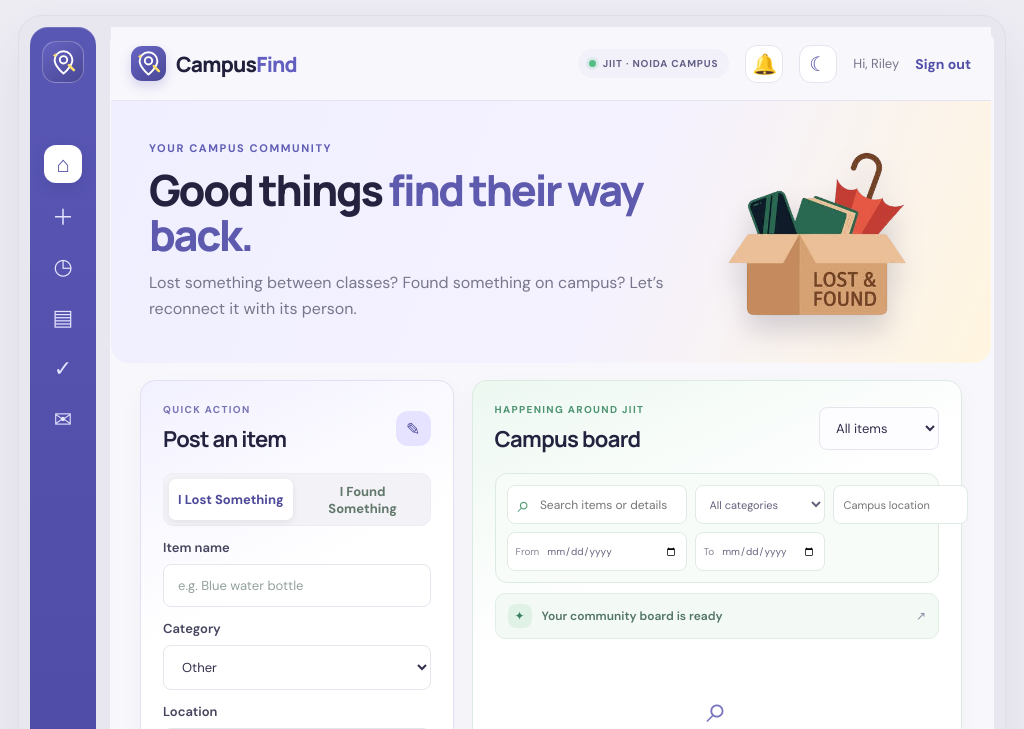
Test: CampusFind board › shows the signed-in user’s open and returned listings in My Listings
Step 1. Click the button named "My listings" → click(63, 317), box top-left (44, 298), bottom-right (82, 336)
(page scrolled)
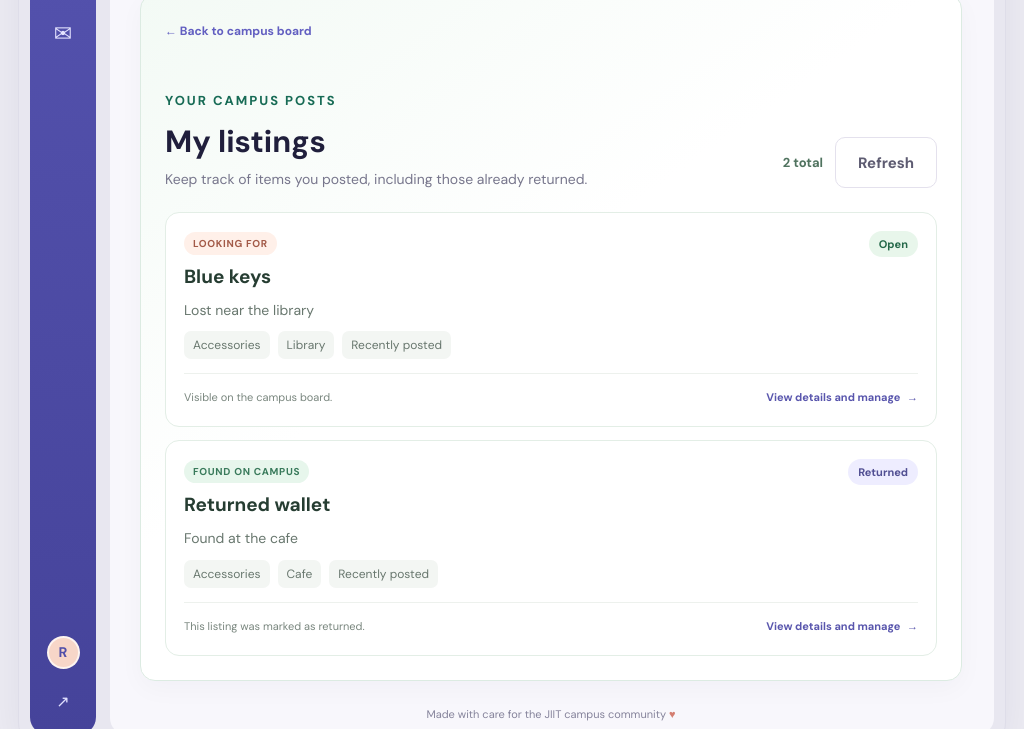
Expected: the heading "My listings" is shown, top-left (165, 122), bottom-right (326, 162)
Expected: the heading "Blue keys" is shown, top-left (184, 264), bottom-right (277, 289)
Expected: the heading "Returned wallet" is shown, top-left (184, 492), bottom-right (330, 517)
Step 2. Click the button "View details and manage →" in the row of "This listing was marked as returned." → click(842, 626), box top-left (766, 615), bottom-right (918, 637)
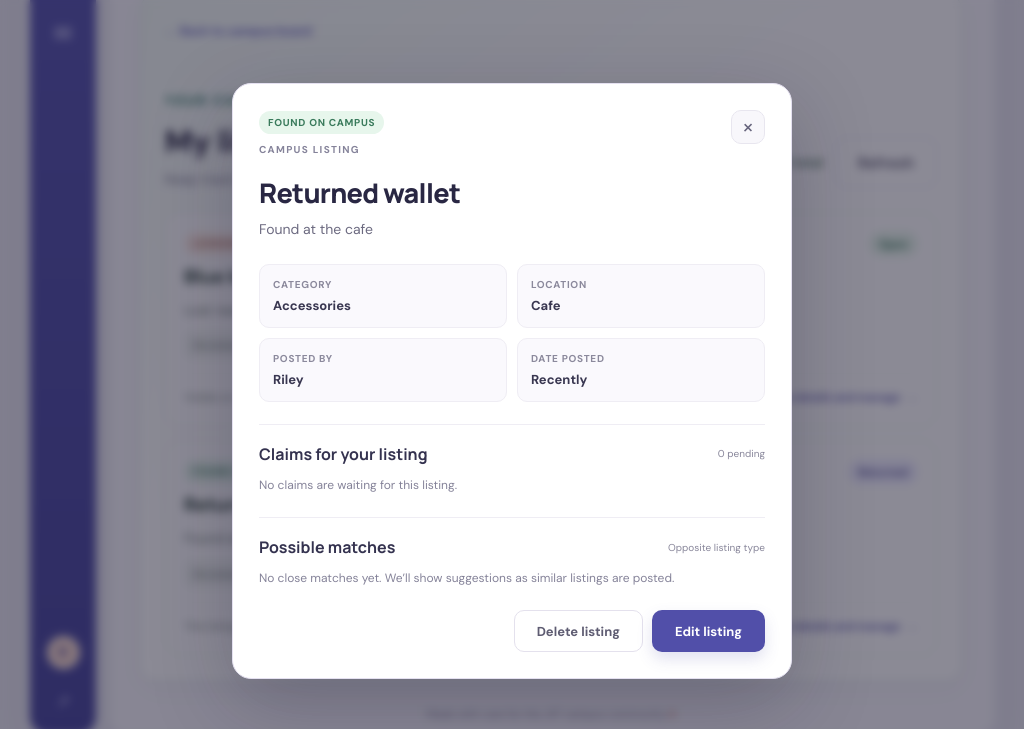
Expected: the dialog is shown, top-left (232, 83), bottom-right (792, 679)
Expected: the button "Edit listing" is shown, top-left (652, 610), bottom-right (765, 652)
